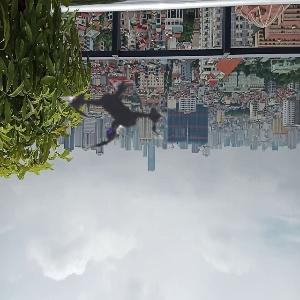drone: (26, 21, 211, 206)
